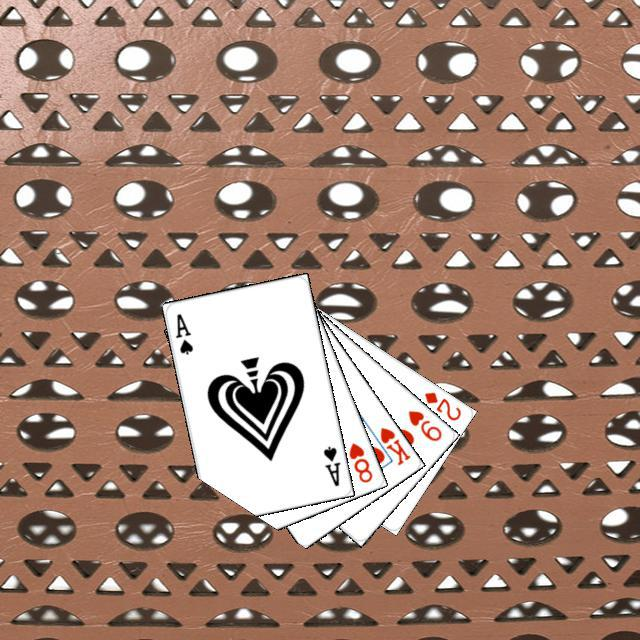2d: (419, 387, 463, 423)
8h: (344, 438, 374, 484)
9h: (403, 405, 444, 443)
As: (171, 309, 195, 357), (318, 441, 342, 488)
Kh: (365, 422, 412, 467)
